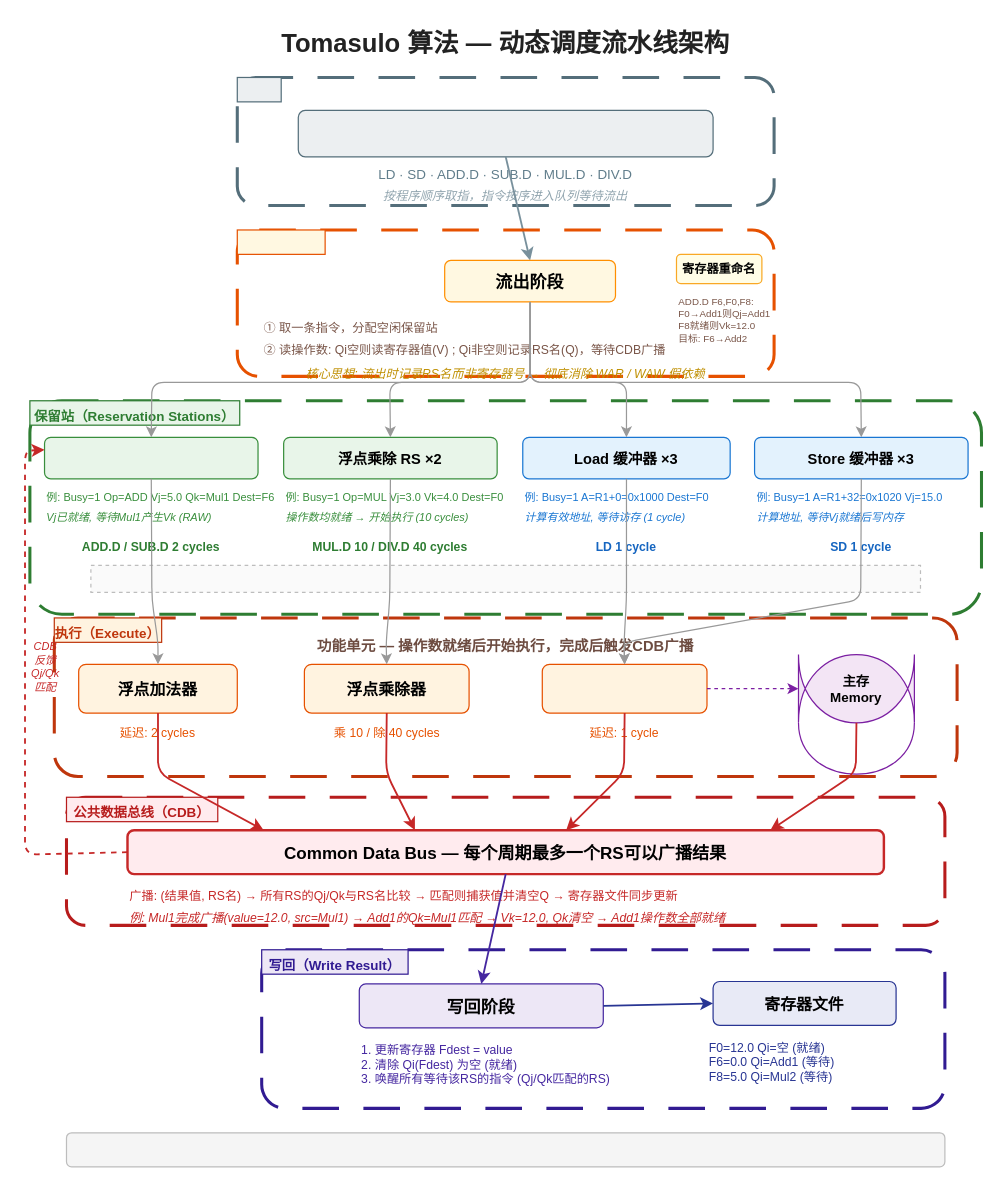
Image size: 1002x1187. Some labels were removed from this diagram. The shapes that lost their labels are listed below. From the top down, each one's centre as x and y in pixels, then its label:
At point (258, 89): "取指".
At point (505, 133): "指令队列（Instruction Queue）".
At point (280, 241): "流出（Issue）".
At point (150, 457): "浮点加法 RS ×3".
At point (505, 578): "每项字段: [Busy] [Op] [Vj,Vk] [Qj,Qk] [A地址] [Dest目标寄存器] [剩余周期]".
At point (624, 688): "访存单元".
At point (505, 1149): "每周期流程: ① 写结果 (CDB广播) → ② 流出 (分配RS + 寄存器重命名) → ③ 执行 (操作数就绪→功能单元开始) → ④ 剩余周期减1".
